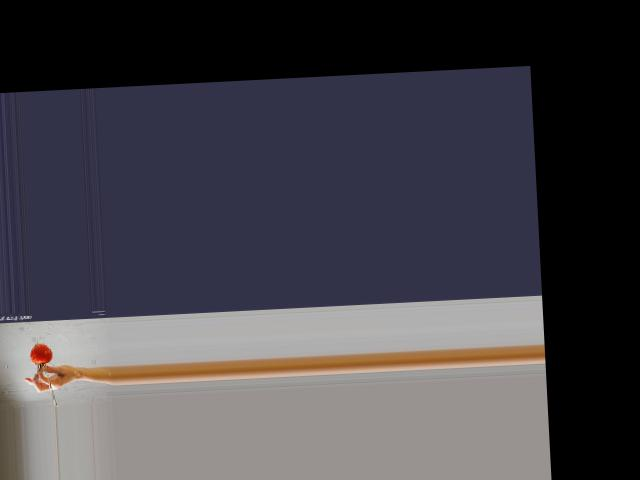tomato: (31, 342, 54, 364)
